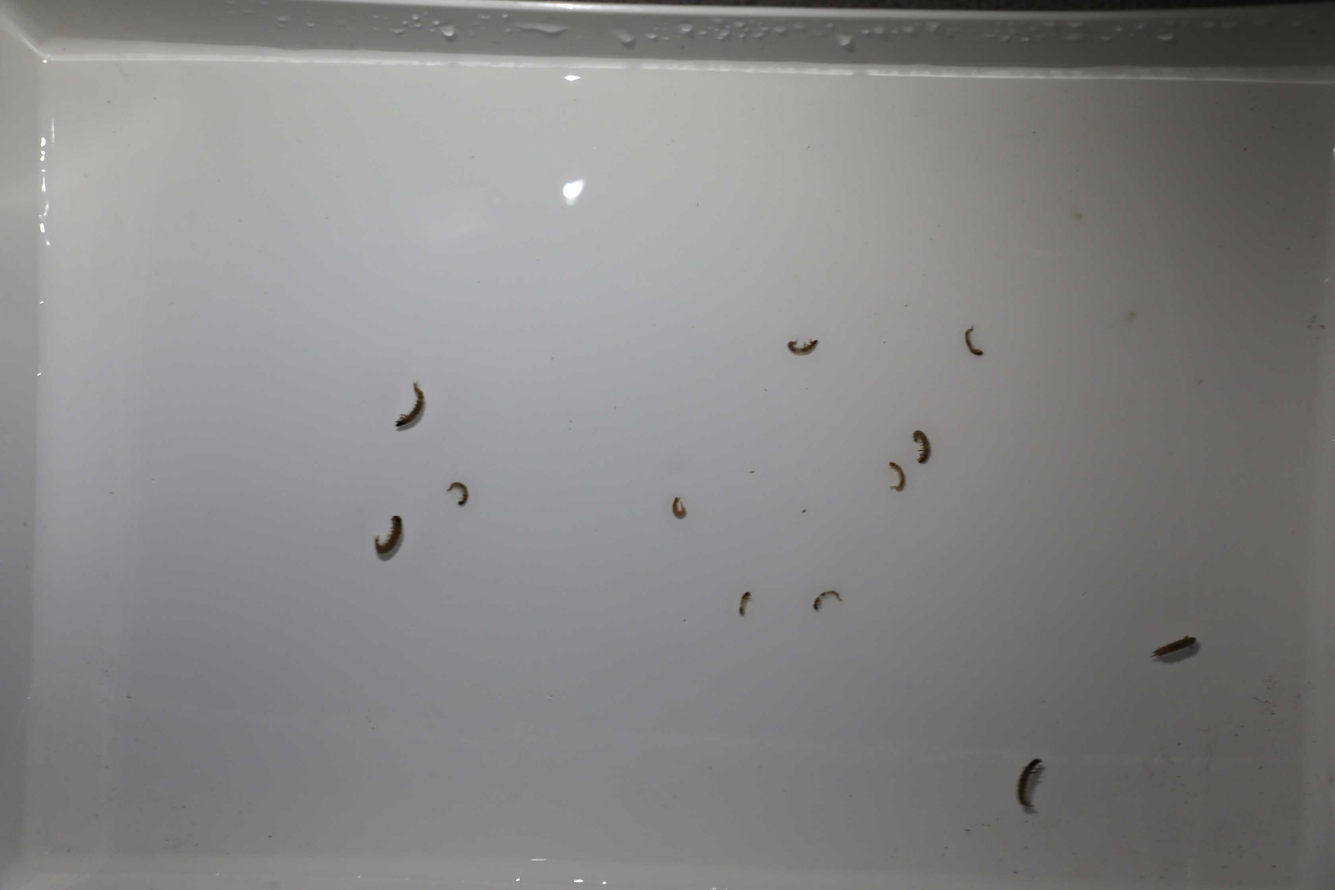Cadisfly: (1012, 753, 1047, 816), (393, 380, 428, 434), (370, 515, 405, 565), (1151, 631, 1202, 662), (910, 426, 935, 467), (447, 481, 472, 512), (786, 337, 819, 360), (963, 325, 984, 360), (811, 589, 842, 611), (887, 459, 905, 494), (735, 588, 755, 619), (670, 499, 690, 523)
